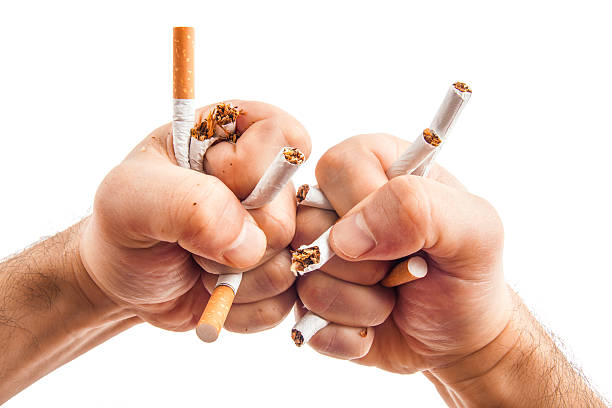cigarette: (412, 82, 471, 177), (241, 145, 305, 209), (170, 23, 196, 168), (195, 268, 242, 346), (385, 128, 441, 183), (292, 226, 335, 273), (187, 119, 219, 172), (382, 255, 428, 291), (288, 312, 327, 346), (207, 101, 239, 140), (294, 183, 337, 212)
